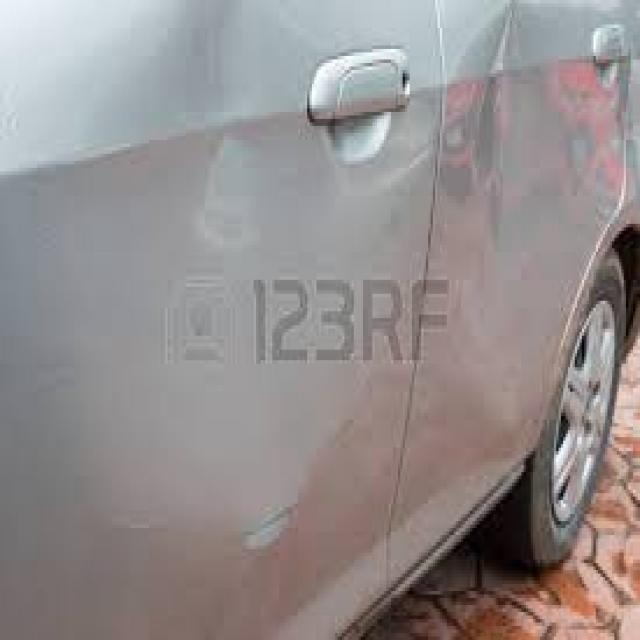minor: (108, 22, 606, 510)
